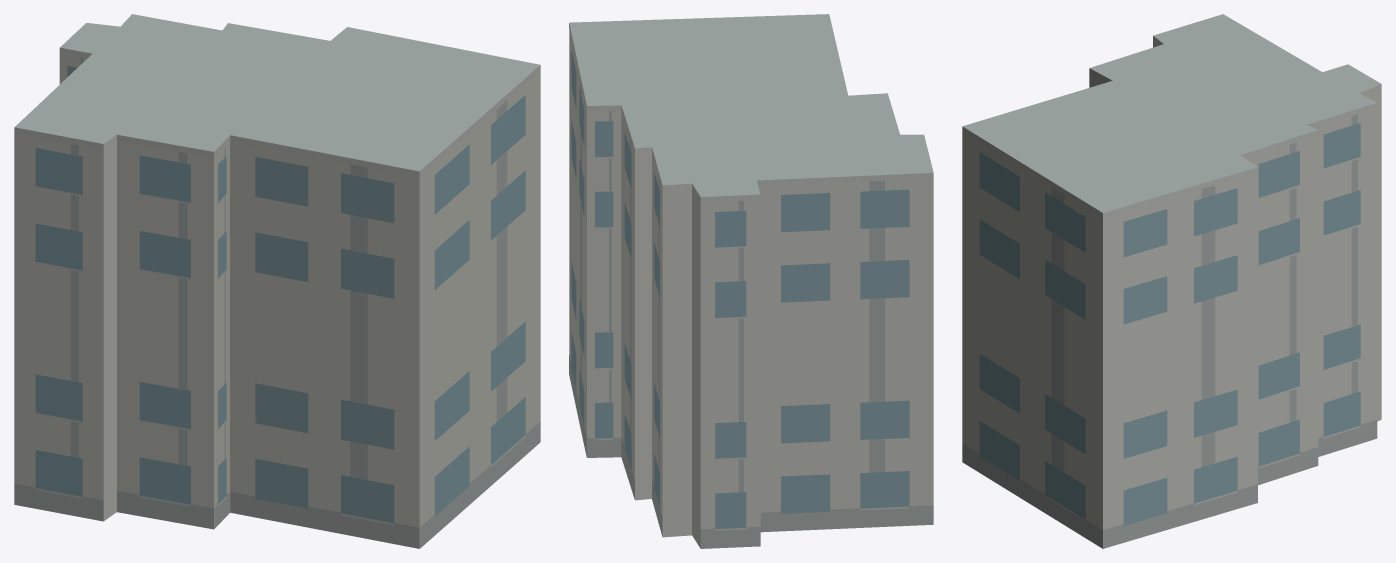
Rendered from survey-upis-32960826.glb.
The picture shows the model from 3 angles, left to right: view 1: azimuth 30°, elevation 25°; view 2: azimuth 150°, elevation 25°; view 3: azimuth 270°, elevation 25°; orthographic projection. The views are drawn at different scales.
Parts seen in each view (by area): view 1: survey-upis-32960826.tmp; view 2: survey-upis-32960826.tmp; view 3: survey-upis-32960826.tmp.
Part boxes in pixels (x1,y1,x2,y2): survey-upis-32960826.tmp: [14, 14, 540, 548]; survey-upis-32960826.tmp: [569, 14, 933, 548]; survey-upis-32960826.tmp: [962, 14, 1381, 548].
Bounding box in the file's own units: 19.08 × 15 × 16.99.
